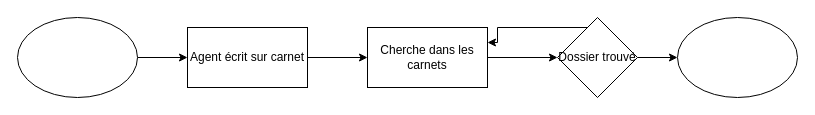
Image size: 815x115. Some labels were removed from this diagram. Here are the shapes that lost their labels. From the top down, the centre of each, then its label:
At [77,57]: "Patient arrive".
At [737,57]: "Patients prise en charge".
